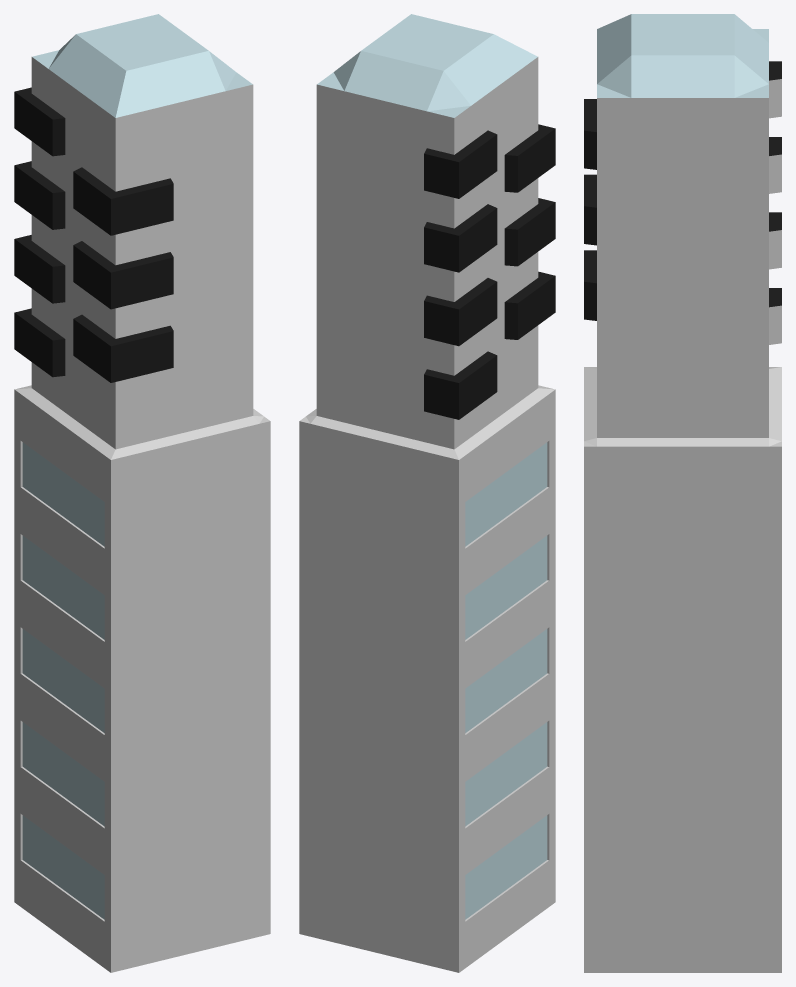
The model's file is cityscraper1.fbx.
3 views of the same model, side by side, from view 1: azimuth 30°, elevation 25°; view 2: azimuth 150°, elevation 25°; view 3: azimuth 270°, elevation 25° (orthographic). The views are drawn at different scales.
Visible parts, largest first — view 1: pCube1; view 2: pCube1; view 3: pCube1.
Boxes of the visible parts, bbox=[...] form: pCube1: bbox=[14, 14, 270, 972]; pCube1: bbox=[299, 14, 555, 972]; pCube1: bbox=[584, 14, 781, 972].
Bounding box in the file's own units: 5.8 × 30.41 × 6.07.
